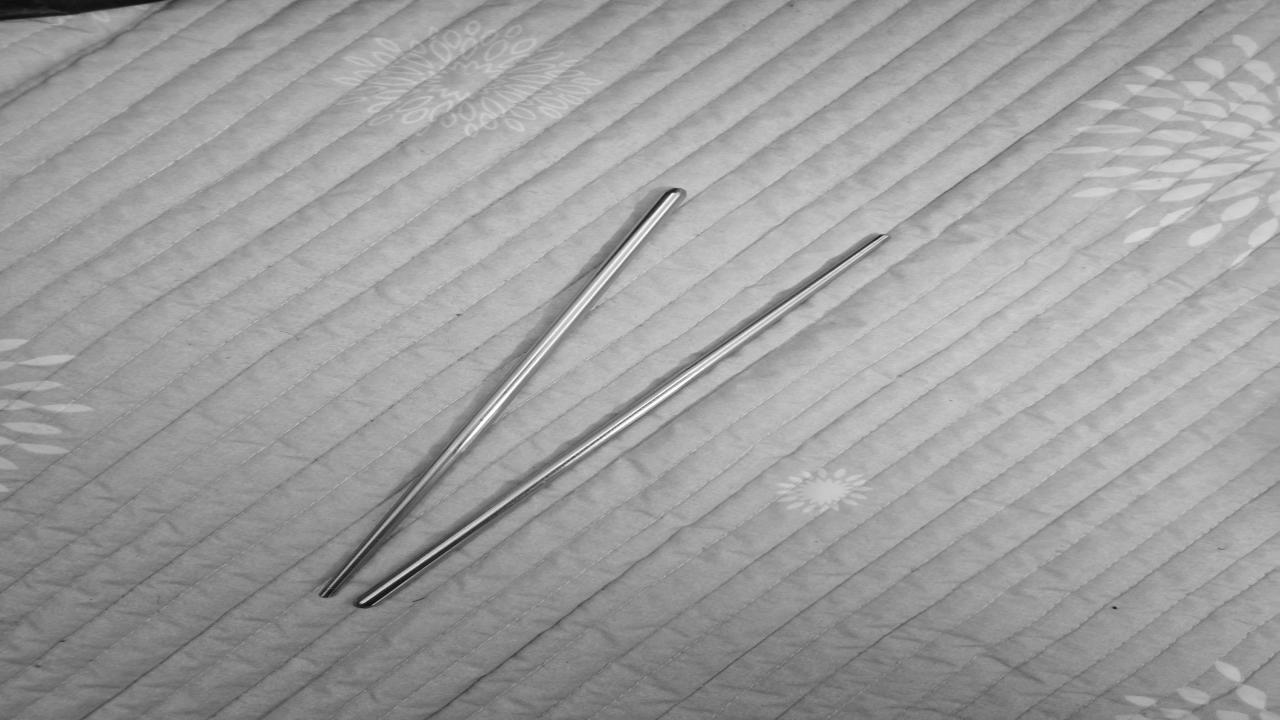chopstick: (297, 181, 899, 613)
